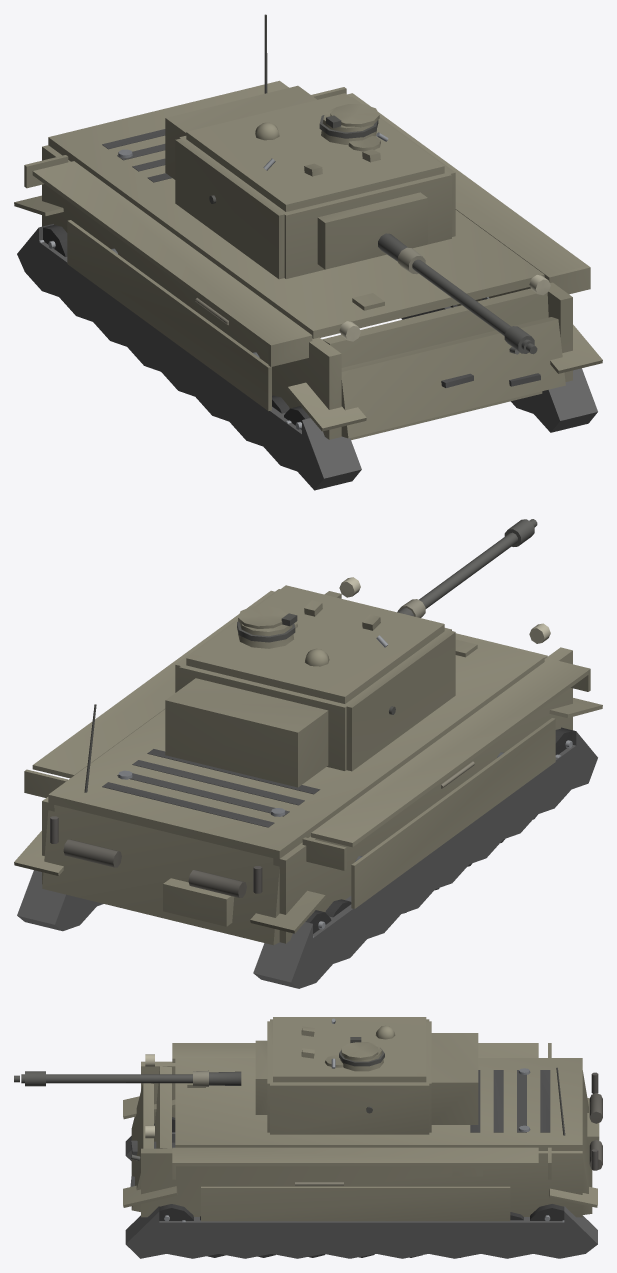
Rendered from challenger2.glb.
The picture shows the model from 3 angles, top to bottom: view 1: azimuth 30°, elevation 25°; view 2: azimuth 150°, elevation 25°; view 3: azimuth 270°, elevation 25°; orthographic projection. The views are drawn at different scales.
Parts seen in each view (by area): view 1: hullSide, hullTop, tracks, turretRoof, lowerPlate, turretFront, turretSide, glacis, mantlet, barrel; view 2: hullSide, hullTop, tracks, hullRear, turretRoof, turretFront, turretSide, turretRear, barrel; view 3: hullSide, hullTop, tracks, turretRoof, turretSide, turretFront, barrel, hullRear, glacis, lowerPlate, mantlet, turretRear (+2 smaller).
Part boxes in pixels (bbox=[...]): hullSide: bbox=[24, 87, 590, 439]; hullTop: bbox=[48, 80, 544, 338]; tracks: bbox=[14, 195, 602, 490]; turretRoof: bbox=[186, 93, 444, 211]; lowerPlate: bbox=[341, 317, 565, 438]; turretFront: bbox=[165, 85, 451, 278]; turretSide: bbox=[175, 97, 455, 279]; glacis: bbox=[322, 288, 548, 440]; mantlet: bbox=[317, 192, 427, 269]; barrel: bbox=[378, 233, 537, 354]; hullSide: bbox=[24, 577, 590, 943]; hullTop: bbox=[48, 635, 544, 859]; tracks: bbox=[14, 698, 602, 988]; hullRear: bbox=[42, 704, 279, 945]; turretRoof: bbox=[186, 585, 444, 703]; turretFront: bbox=[165, 628, 451, 787]; turretSide: bbox=[175, 589, 455, 771]; turretRear: bbox=[179, 663, 350, 770]; barrel: bbox=[397, 519, 537, 617]; hullSide: bbox=[141, 1043, 582, 1221]; hullTop: bbox=[175, 1058, 582, 1150]; tracks: bbox=[123, 1096, 597, 1258]; turretRoof: bbox=[273, 1017, 426, 1082]; turretSide: bbox=[270, 1019, 429, 1134]; turretFront: bbox=[267, 1021, 478, 1132]; barrel: bbox=[14, 1070, 241, 1086]; hullRear: bbox=[556, 1067, 602, 1214]; glacis: bbox=[130, 1066, 205, 1186]; lowerPlate: bbox=[131, 1083, 153, 1211]; mantlet: bbox=[255, 1040, 267, 1114]; turretRear: bbox=[422, 1021, 431, 1132].
Size of the model in its own units: 4.63 by 3.21 by 9.6.
